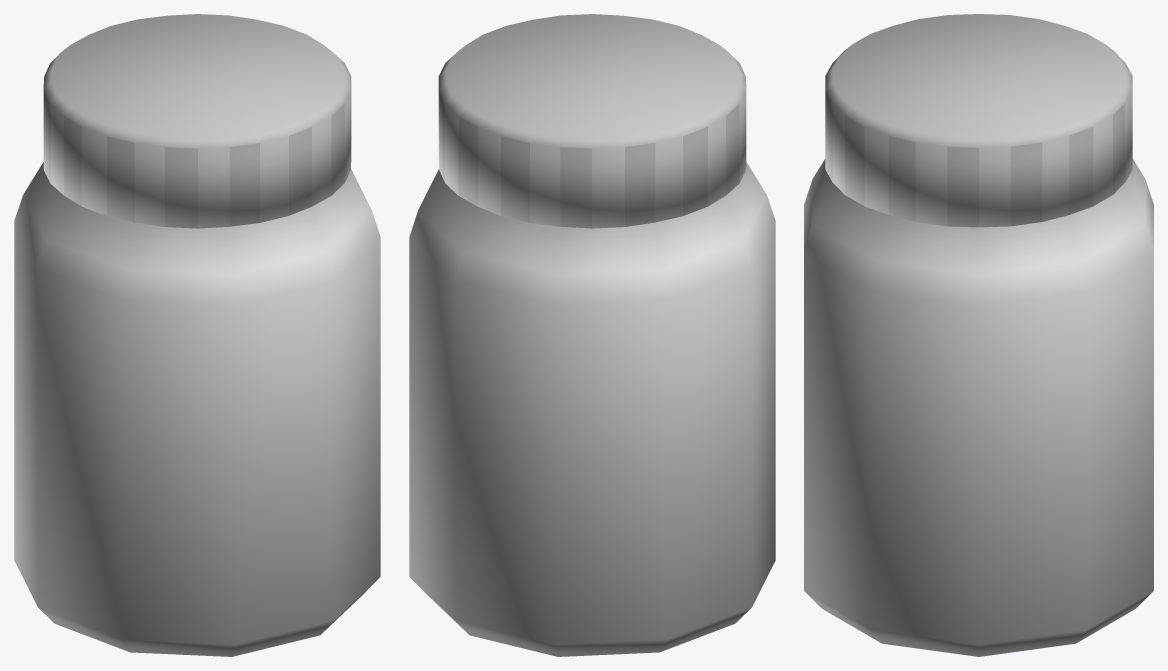
File: CR_sci_Bottle_003.FBX
3 views of the same model, side by side, from view 1: azimuth 30°, elevation 25°; view 2: azimuth 150°, elevation 25°; view 3: azimuth 270°, elevation 25° (orthographic).
Parts seen in each view (by area): view 1: CR_sci_Bottle_003; view 2: CR_sci_Bottle_003; view 3: CR_sci_Bottle_003.
Part boxes in pixels (box(x1,y1,x2,y2)): CR_sci_Bottle_003: box(14, 14, 380, 656); CR_sci_Bottle_003: box(409, 14, 775, 656); CR_sci_Bottle_003: box(804, 14, 1153, 656).
Size of the model in its own units: 7.11 by 6.76 by 10.9.
